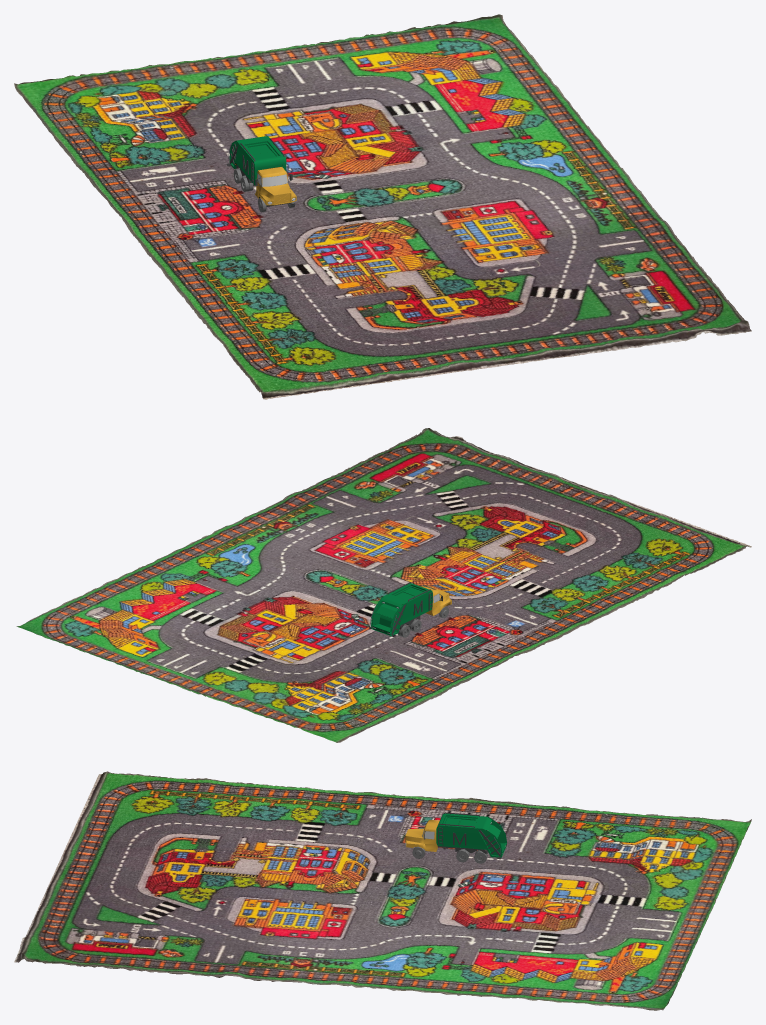
The model's file is trashTruck.glb.
The picture shows the model from 3 angles, top to bottom: view 1: azimuth 30°, elevation 25°; view 2: azimuth 150°, elevation 25°; view 3: azimuth 270°, elevation 25°; orthographic projection. The views are drawn at different scales.
Visible parts, largest first — view 1: Object_4, cabinne; view 2: Object_4, cabinne; view 3: Object_4, cabinne.
Boxes of the visible parts, x1,y1,x2,y2 form: Object_4: [14, 14, 751, 399]; cabinne: [226, 136, 296, 206]; Object_4: [16, 428, 751, 742]; cabinne: [369, 582, 451, 636]; Object_4: [14, 771, 751, 1010]; cabinne: [405, 812, 506, 859].
Bounding box in the file's own units: 0.2556 × 0.0223 × 0.3333.
11 materials, 11 textured.
